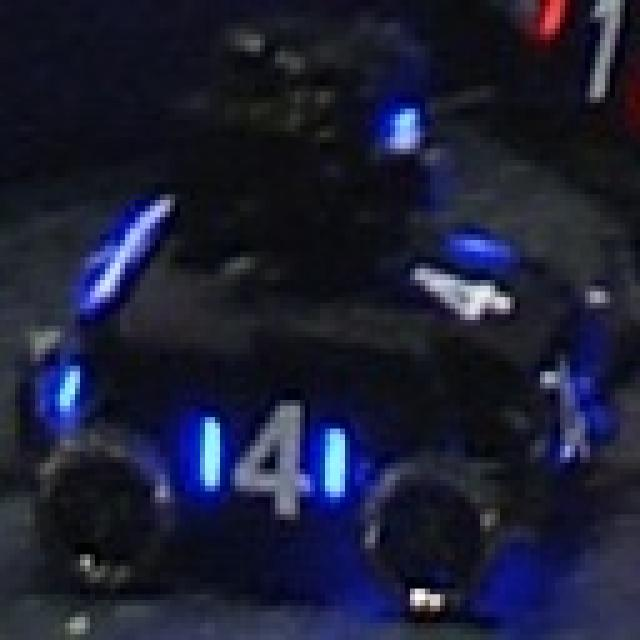B4: (195, 400, 345, 520)
